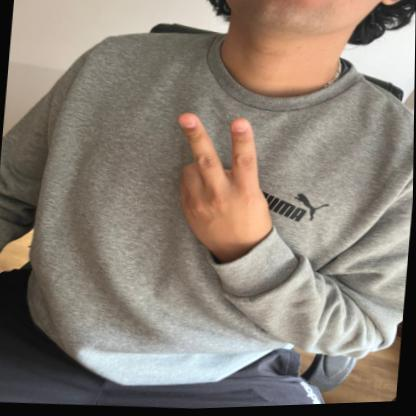V: (159, 104, 287, 261)
